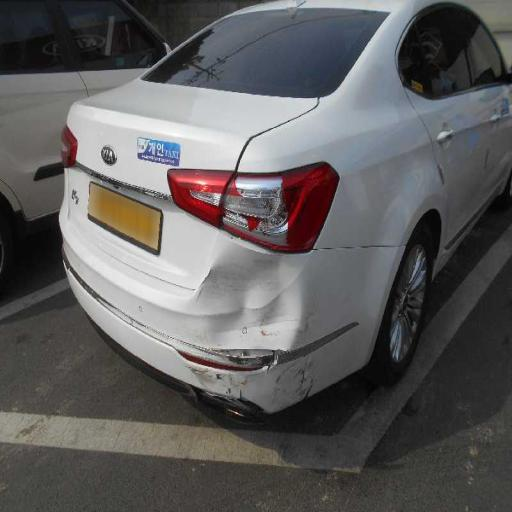dent: (202, 230, 318, 334)
scratch: (177, 336, 323, 408)
